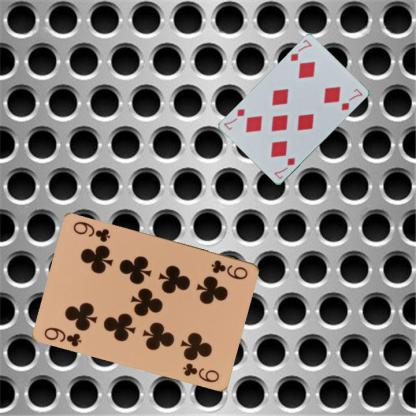7d: (288, 37, 313, 63), (272, 155, 296, 181)
9c: (209, 257, 250, 281), (42, 324, 83, 348)
